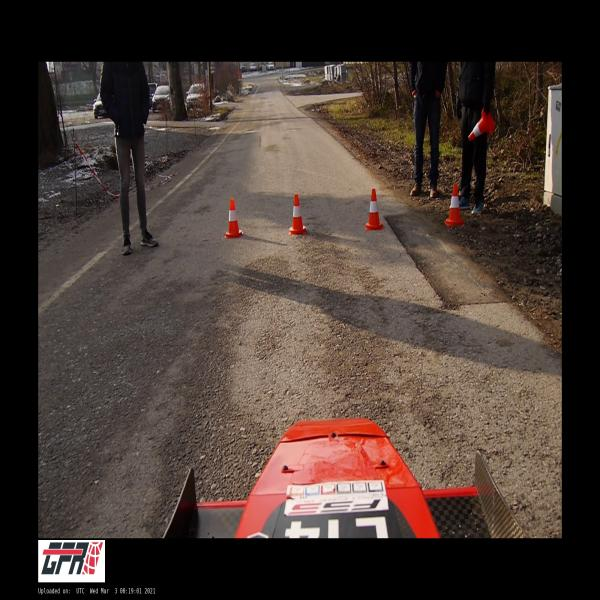orange_cone: (468, 107, 495, 141), (444, 184, 464, 225), (365, 189, 383, 230), (225, 198, 243, 238), (289, 194, 306, 234)
